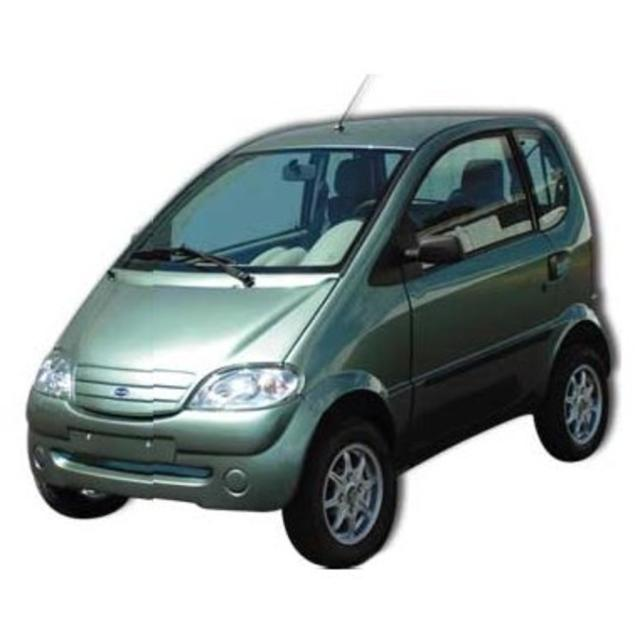car: (22, 68, 617, 568)
